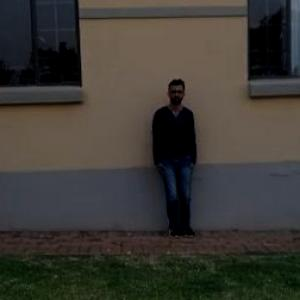follow: (150, 76, 198, 238)
